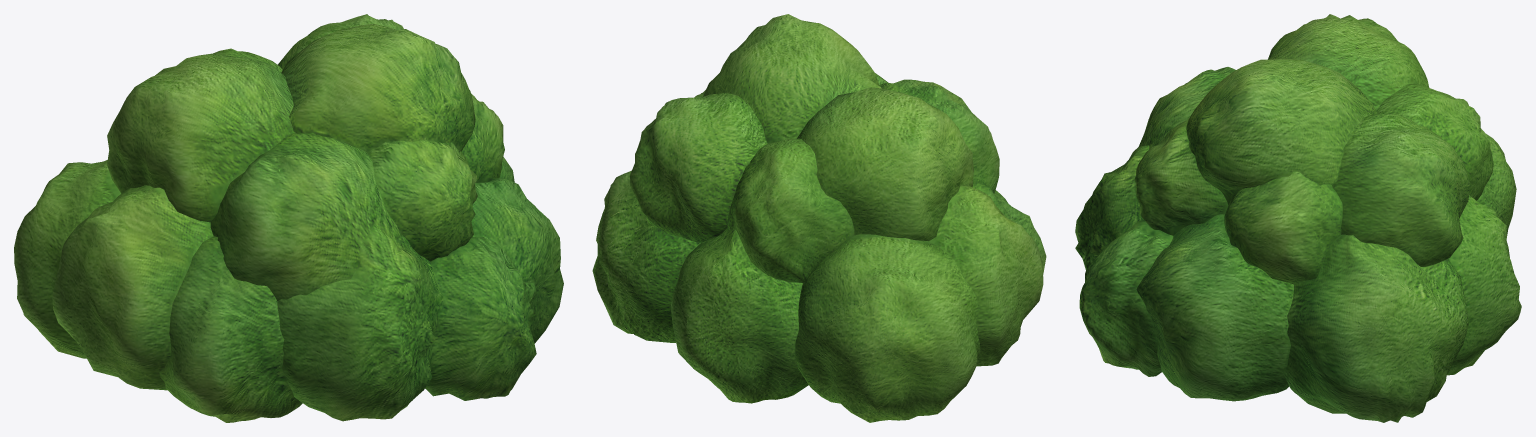
Rendered from green_moss_ball_3d_model.glb.
The picture shows the model from 3 angles, left to right: view 1: azimuth 30°, elevation 25°; view 2: azimuth 150°, elevation 25°; view 3: azimuth 270°, elevation 25°; orthographic projection. The views are drawn at different scales.
Visible parts, largest first — view 1: tripo_8710bf61_cf79_43a0_a99d_a6dac893f312; view 2: tripo_8710bf61_cf79_43a0_a99d_a6dac893f312; view 3: tripo_8710bf61_cf79_43a0_a99d_a6dac893f312.
Boxes of the visible parts, x1=… form: tripo_8710bf61_cf79_43a0_a99d_a6dac893f312: x1=14, y1=14, x2=563, y2=422; tripo_8710bf61_cf79_43a0_a99d_a6dac893f312: x1=592, y1=14, x2=1046, y2=422; tripo_8710bf61_cf79_43a0_a99d_a6dac893f312: x1=1075, y1=14, x2=1521, y2=422.
Size of the model in its own units: 0.9995 by 0.7212 by 0.9214.
1 material, 1 textured.
